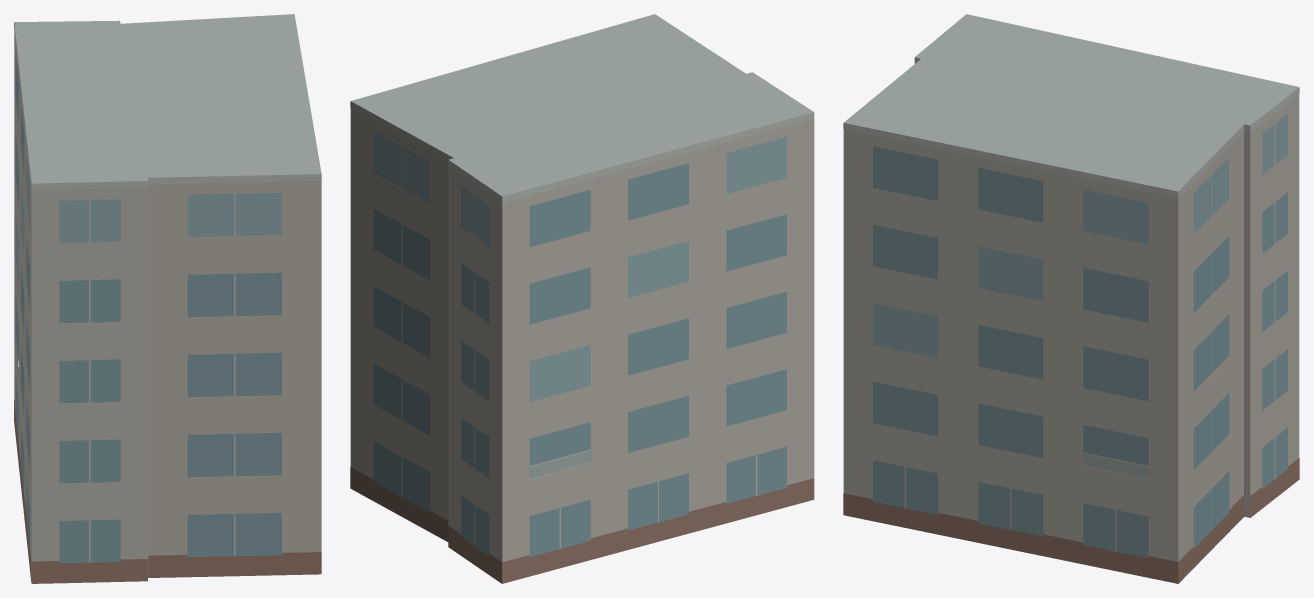
File: survey-upis-32893122.glb
3 views of the same model, side by side, from view 1: azimuth 30°, elevation 25°; view 2: azimuth 150°, elevation 25°; view 3: azimuth 270°, elevation 25° (orthographic). The views are drawn at different scales.
Parts seen in each view (by area): view 1: survey-upis-32893122.tmp; view 2: survey-upis-32893122.tmp; view 3: survey-upis-32893122.tmp.
Part boxes in pixels (box(x1,y1,x2,y2)): survey-upis-32893122.tmp: box(14, 14, 321, 583); survey-upis-32893122.tmp: box(350, 14, 814, 583); survey-upis-32893122.tmp: box(843, 14, 1299, 583).
Size of the model in its own units: 13.98 by 14.4 by 15.18.
